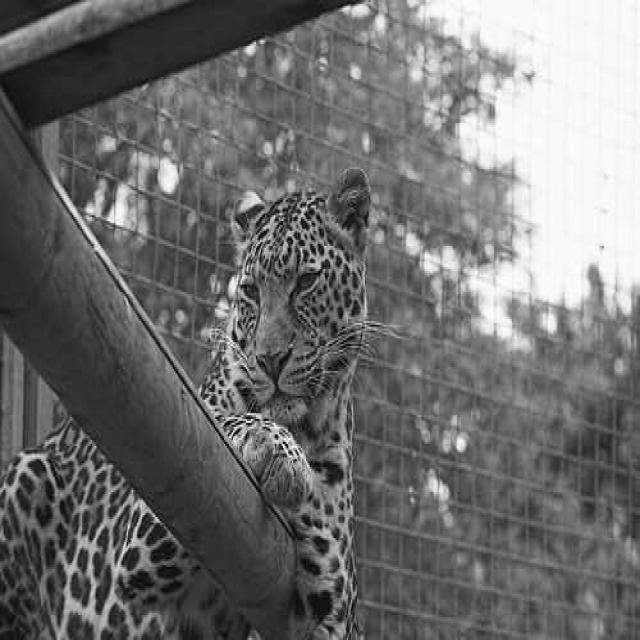Leopard: (0, 165, 396, 638)
